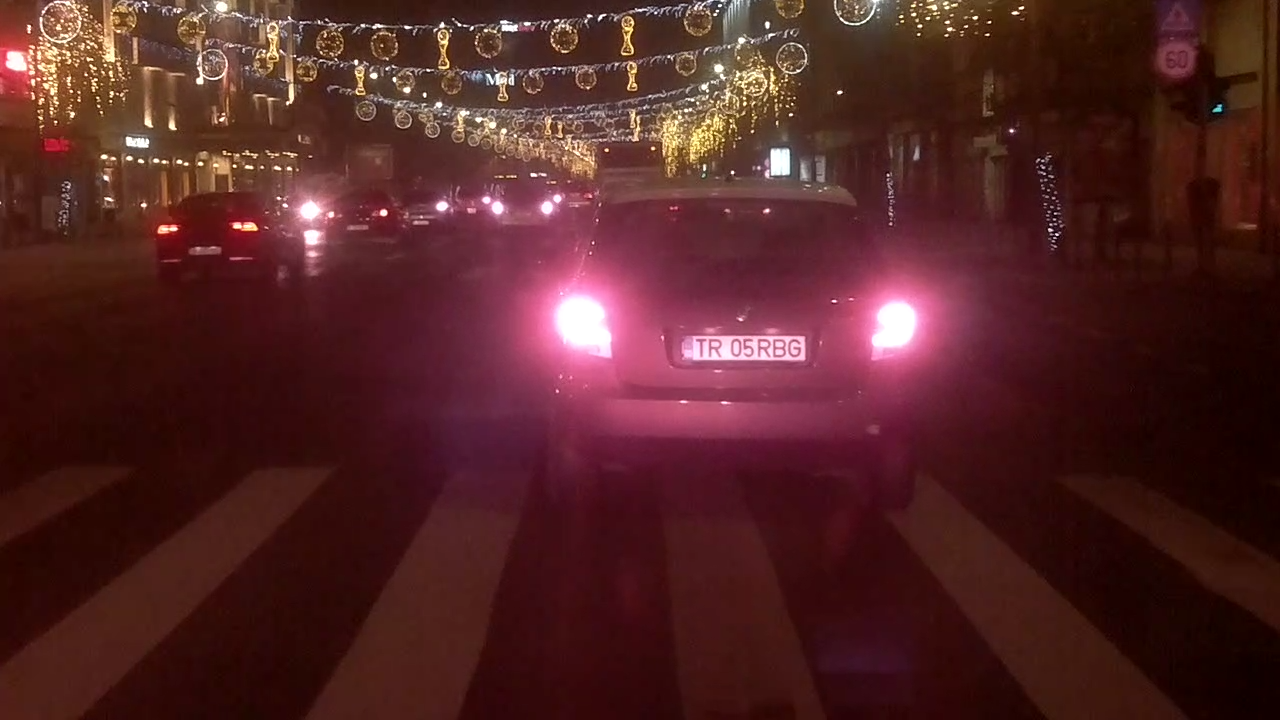license-plate: (676, 328, 810, 364)
